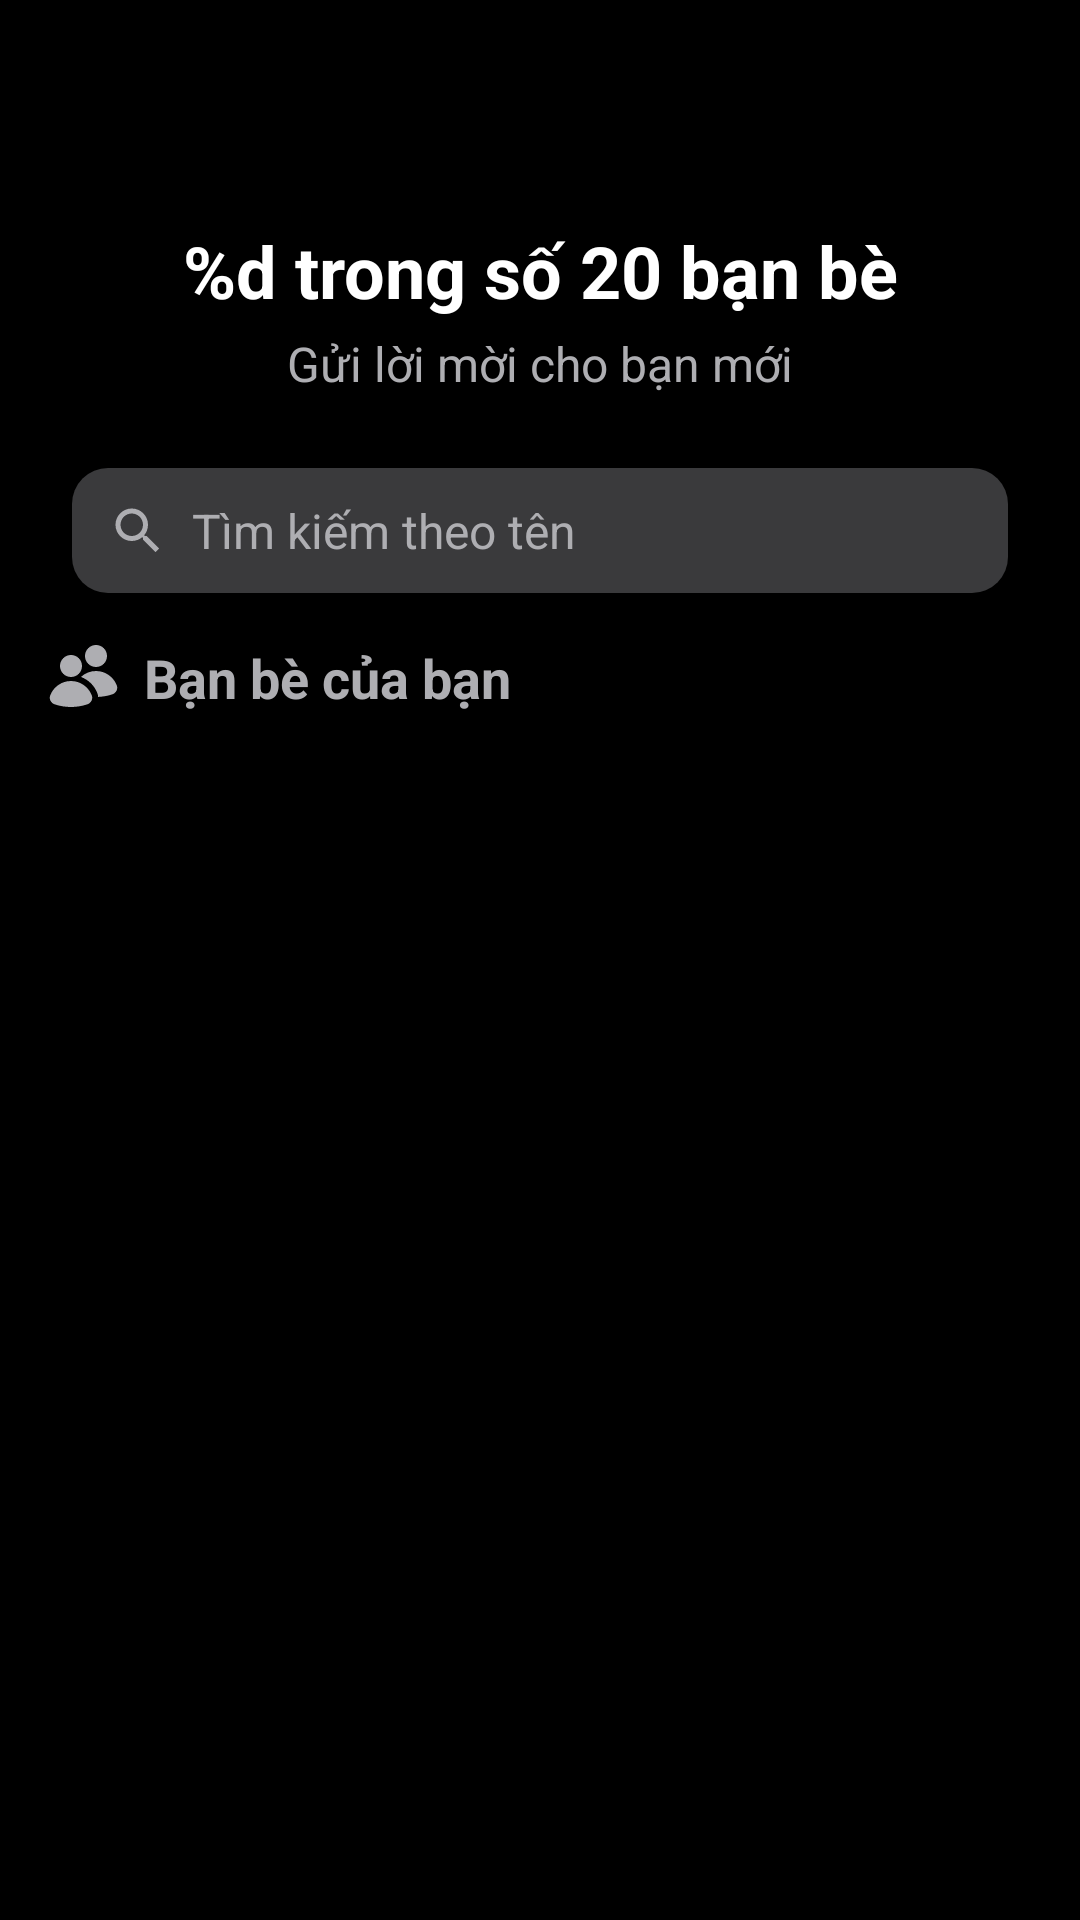

Icon click points for this 1080x1920 phone screenshot, format (x,y):
search: (137,530)
